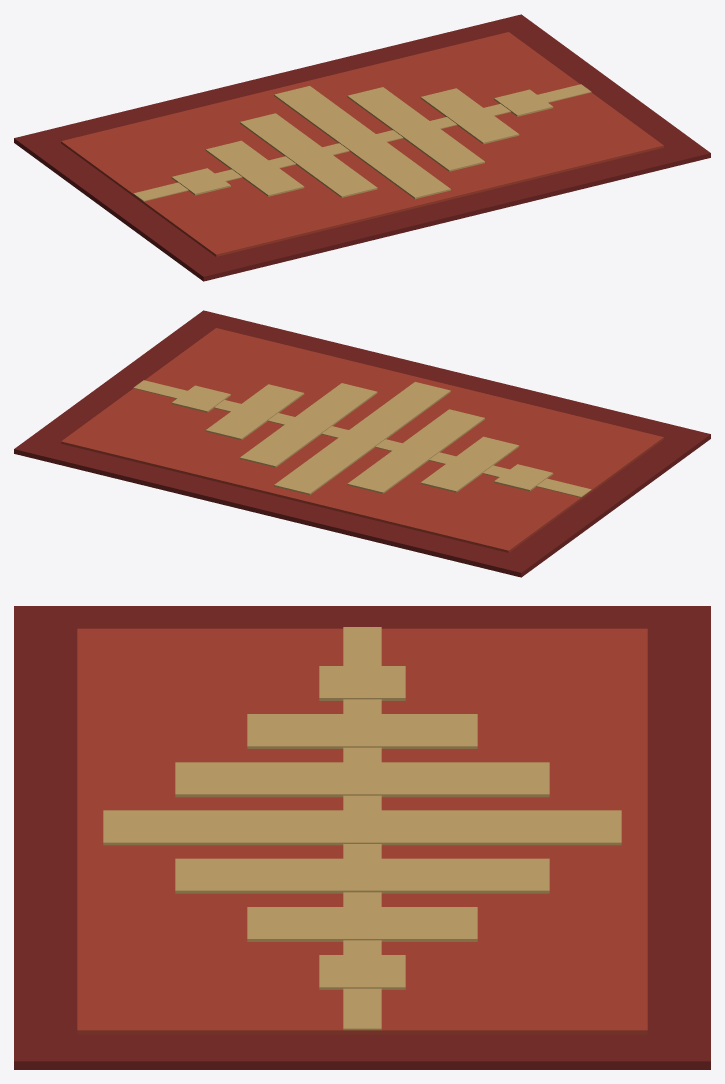
File: xma-rug.glb
3 views of the same model, one above another, from view 1: azimuth 30°, elevation 25°; view 2: azimuth 150°, elevation 25°; view 3: azimuth 270°, elevation 25° (orthographic). The views are drawn at different scales.
Parts seen in each view (by area): view 1: box-prop; view 2: box-prop; view 3: box-prop.
Part boxes in pixels (<box>): box-prop: <box>14,14,710,281</box>; box-prop: <box>14,310,710,577</box>; box-prop: <box>14,606,710,1069</box>.
Size of the model in its own units: 3.4 by 0.055 by 2.2.
